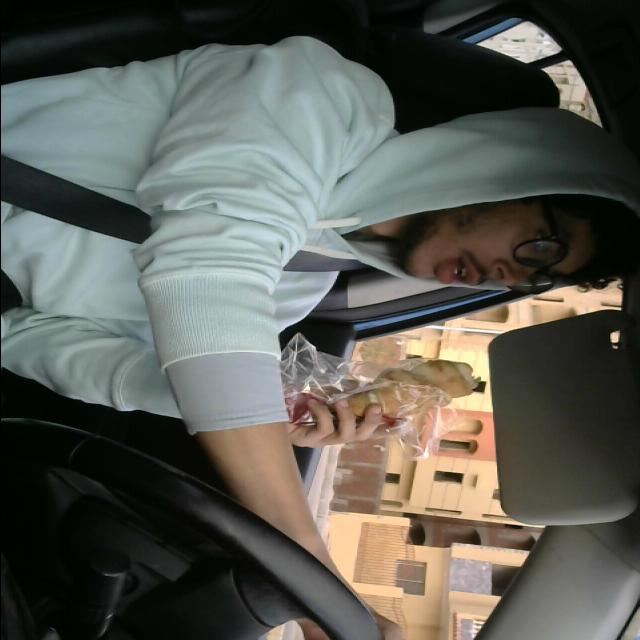eating: (324, 356, 488, 428)
